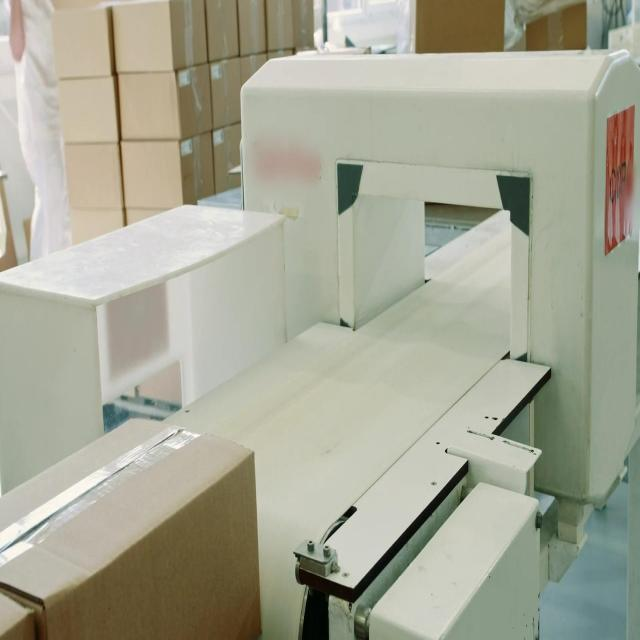box: (0, 417, 262, 639), (0, 592, 37, 639)
